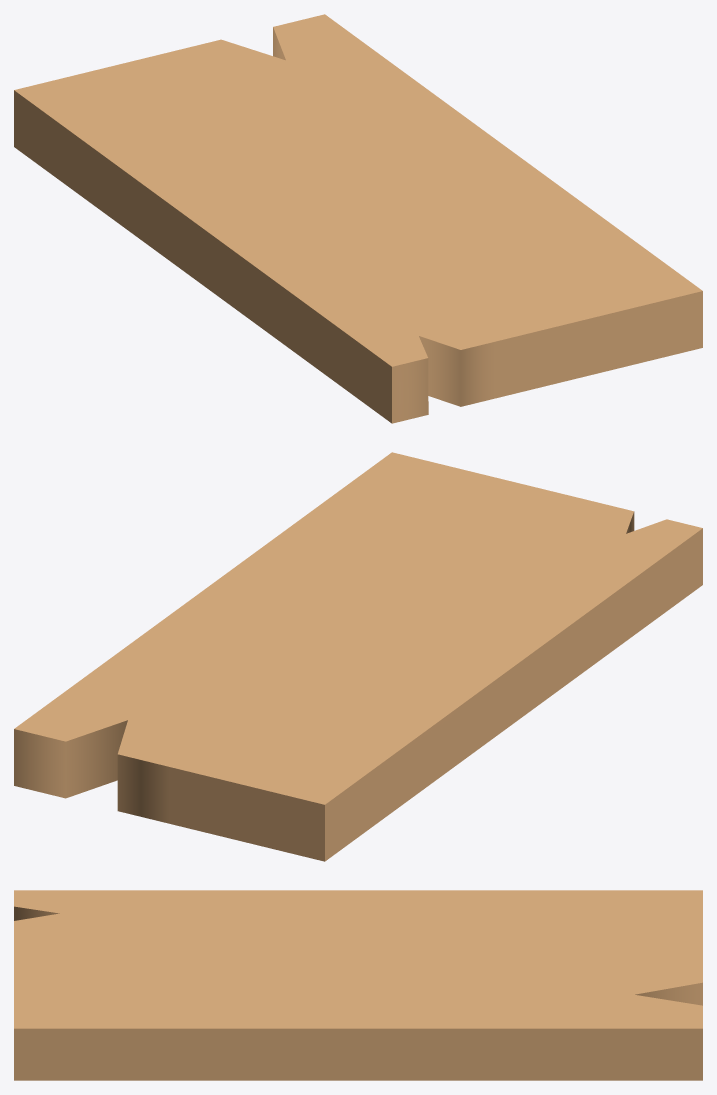
Rendered from mokuzai_01.fbx.
3 views of the same model, one above another, from view 1: azimuth 30°, elevation 25°; view 2: azimuth 150°, elevation 25°; view 3: azimuth 270°, elevation 25° (orthographic). The views are drawn at different scales.
Parts seen in each view (by area): view 1: pCube3; view 2: pCube3; view 3: pCube3.
Part boxes in pixels (x1,y1,x2,y2): pCube3: [14, 14, 702, 423]; pCube3: [14, 452, 702, 861]; pCube3: [14, 890, 702, 1080].
Size of the model in its own units: 0.8104 by 0.1416 by 1.71.
